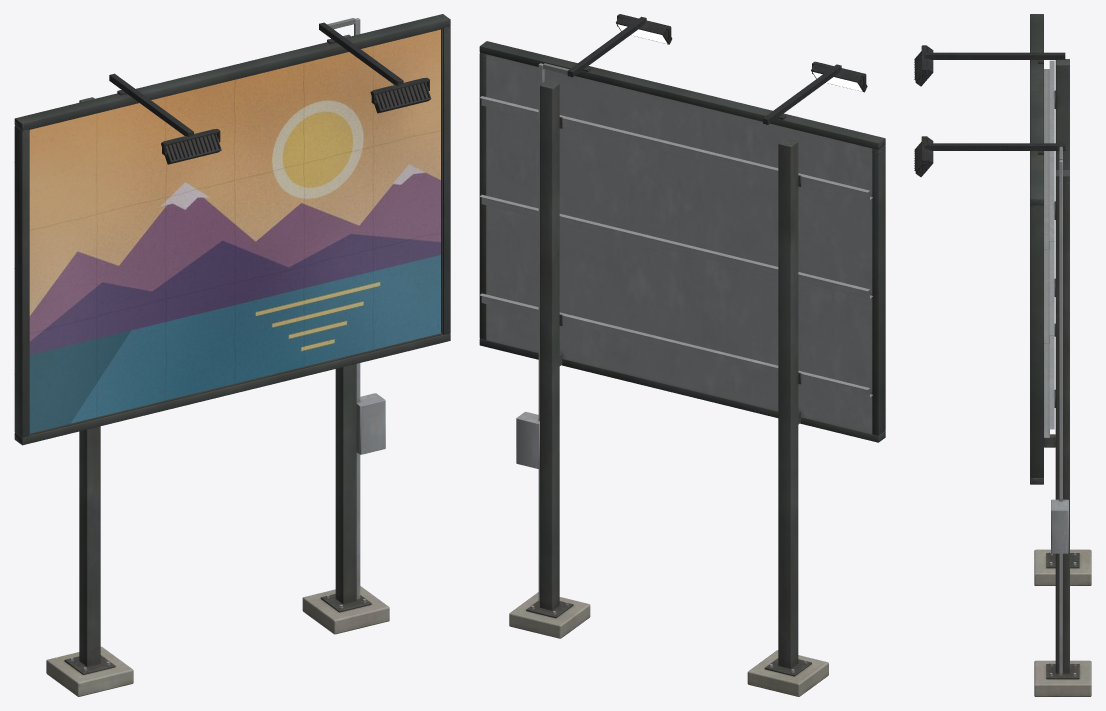
File: billboard.glb
3 views of the same model, side by side, from view 1: azimuth 30°, elevation 25°; view 2: azimuth 150°, elevation 25°; view 3: azimuth 270°, elevation 25° (orthographic). The views are drawn at different scales.
Visible parts, largest first — view 1: billboard_poster, billboard_body; view 2: billboard_body; view 3: billboard_body.
Part boxes in pixels (left/top/right/bottom): billboard_poster: left=29, top=29, right=440, bottom=433; billboard_body: left=14, top=14, right=450, bottom=696; billboard_body: left=479, top=14, right=885, bottom=696; billboard_body: left=914, top=14, right=1091, bottom=696.
Bounding box in the file's own units: 3.68 × 4.91 × 1.49.
Materials: 3 (2 with a texture image).
